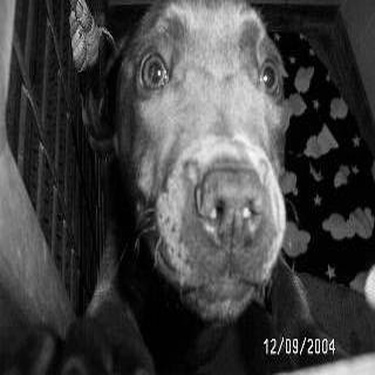dog: (36, 1, 322, 348)
